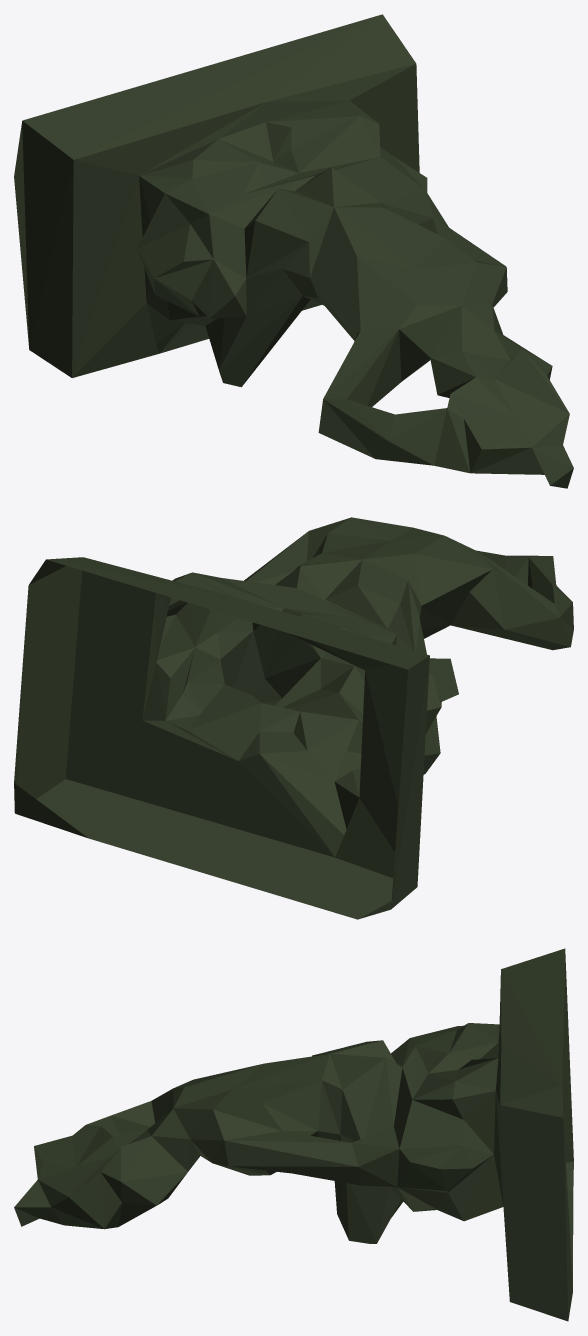
The model's file is maya-head.lod2.glb.
The picture shows the model from 3 angles, top to bottom: view 1: azimuth 30°, elevation 25°; view 2: azimuth 150°, elevation 25°; view 3: azimuth 270°, elevation 25°; orthographic projection. The views are drawn at different scales.
Visible parts, largest first — view 1: Object_2; view 2: Object_2; view 3: Object_2.
Boxes of the visible parts, x1,y1,x2,y2 form: Object_2: [14, 14, 573, 488]; Object_2: [14, 517, 573, 919]; Object_2: [14, 948, 573, 1321].
Bounding box in the file's own units: 4.3 × 2.84 × 5.96.
